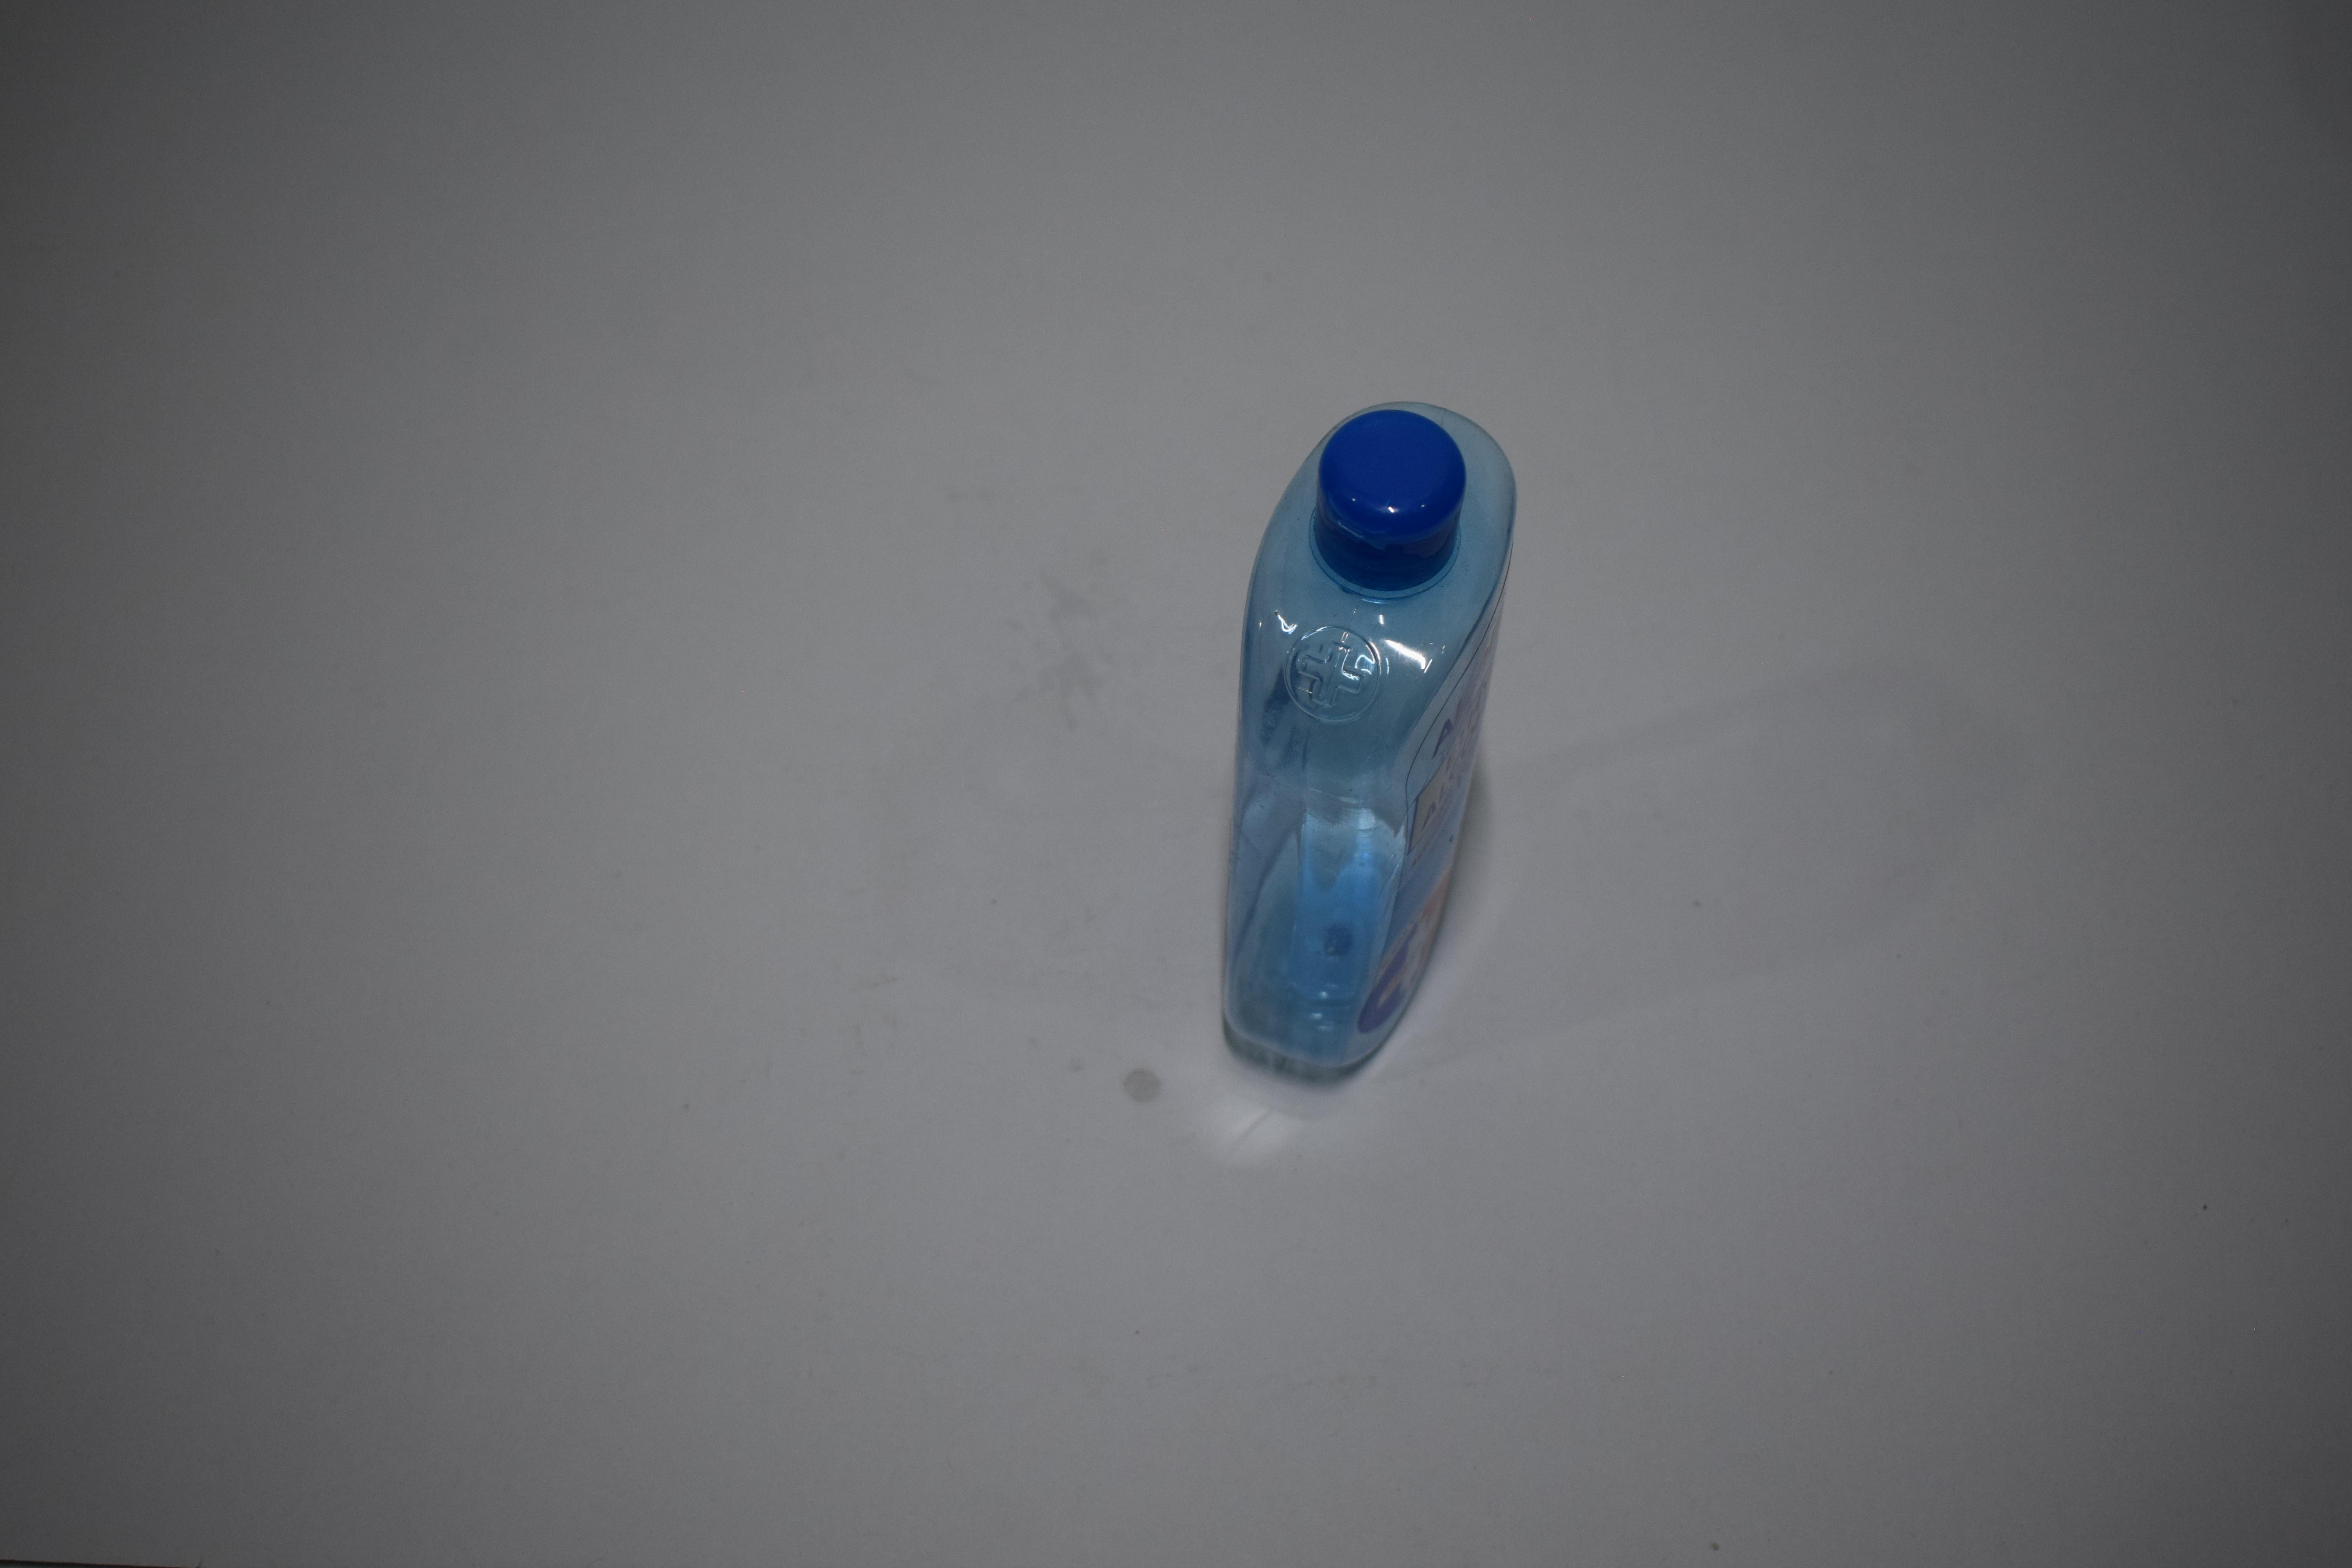bottle: (35, 392, 345, 1081)
